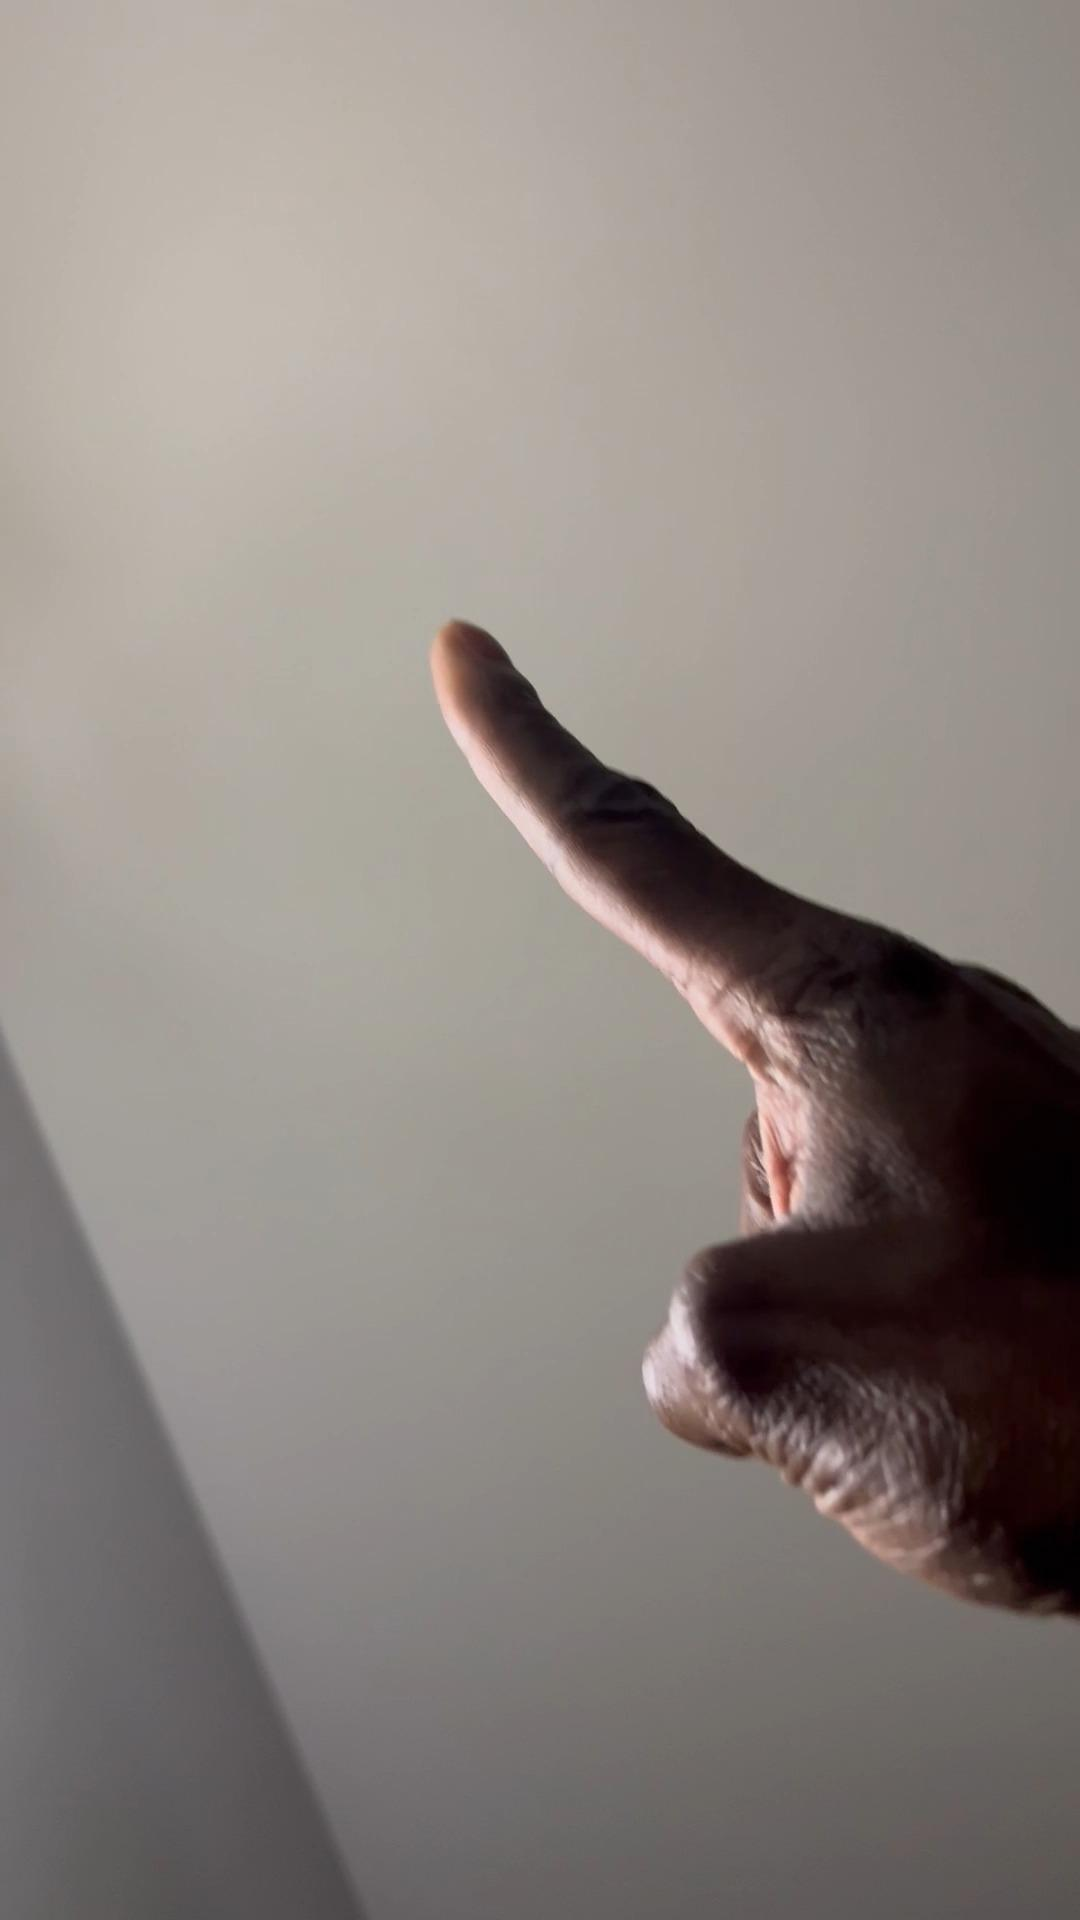Scissors: (430, 617, 1080, 1614)
